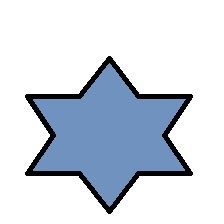star: (24, 57, 193, 214)
